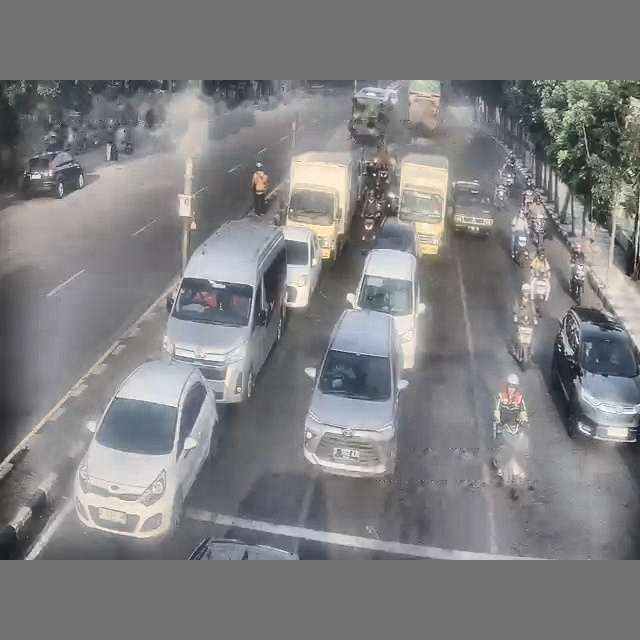Mobil: (74, 360, 218, 538), (303, 309, 408, 478), (551, 306, 639, 442), (346, 249, 425, 368), (282, 225, 321, 308), (21, 150, 84, 197), (189, 537, 298, 559), (452, 180, 493, 235), (374, 216, 418, 257), (385, 88, 399, 106)
Motor: (493, 421, 528, 489), (513, 315, 533, 370), (531, 273, 550, 317), (570, 261, 585, 304), (512, 232, 529, 266), (531, 216, 546, 246), (493, 184, 507, 209)
Truk: (285, 151, 361, 265), (398, 153, 449, 255), (408, 80, 441, 135)
